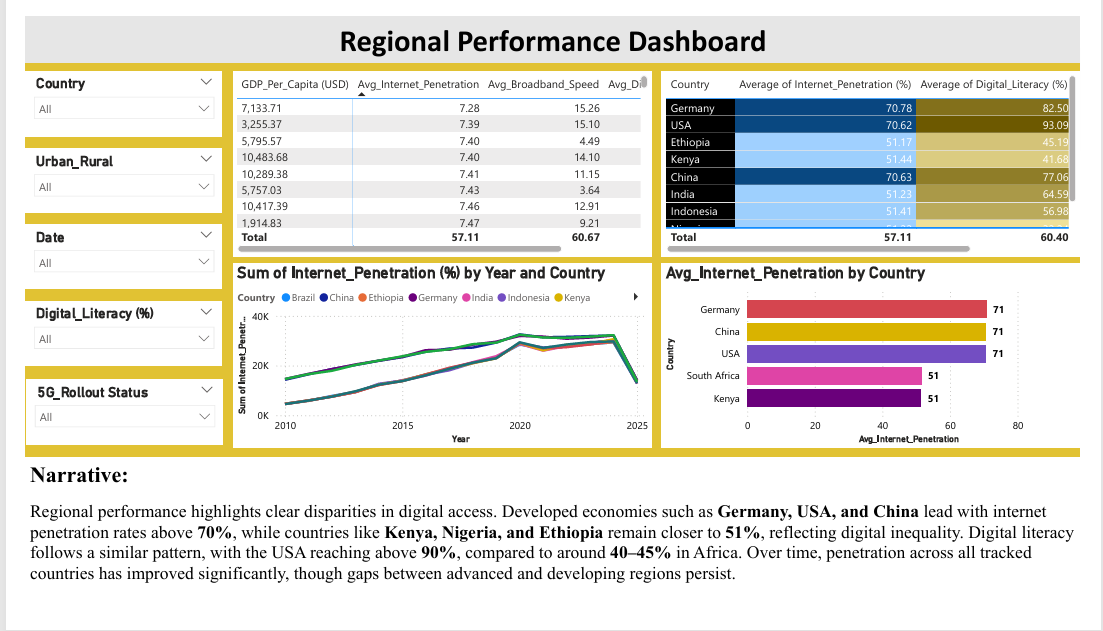

The dashboard page shown, as its layout file describes it:
{"tool":"powerbi","page":{"name":"Page 2","canvas":[1280,720],"ordinal":1},"visuals":[{"type":"slicer","fields":{"Values":["global_internet_adoption_daily_2010_2025_with_clusters.Country"]},"box":[0,66.3,239.3,79.8],"z":0},{"type":"slicer","fields":{"Values":["global_internet_adoption_daily_2010_2025_with_clusters.Digital_Literacy (%)"]},"box":[0,344.8,239.3,78.5],"z":1000},{"type":"slicer","fields":{"Values":["global_internet_adoption_daily_2010_2025_with_clusters.5G_Rollout Status"]},"box":[1.2,440.5,239.3,79],"z":2000},{"type":"slicer","fields":{"Values":["global_internet_adoption_daily_2010_2025_with_clusters.Urban_Rural"]},"box":[0,159.5,239.3,78.5],"z":3000},{"type":"slicer","fields":{"Values":["global_internet_adoption_daily_2010_2025_with_clusters.Date"]},"box":[0,251.5,239.3,78.5],"z":4000},{"type":"pivotTable","fields":{"Rows":["global_internet_adoption_daily_2010_2025_with_clusters.GDP_Per_Capita (USD)"],"Values":["All Measures.Avg_Internet_Penetration","All Measures.Avg_Broadband_Speed","All Measures.Avg_Digital_Literacy"]},"box":[251.5,66.3,508,224.5],"z":5000},{"type":"lineChart","fields":{"Category":["global_internet_adoption_daily_2010_2025_with_clusters.Date.Variation.Date Hierarchy.Year","global_internet_adoption_daily_2010_2025_with_clusters.Date.Variation.Date Hierarchy.Quarter","global_internet_adoption_daily_2010_2025_with_clusters.Date.Variation.Date Hierarchy.Month","global_internet_adoption_daily_2010_2025_with_clusters.Date.Variation.Date Hierarchy.Day"],"Y":["Sum(global_internet_adoption_daily_2010_2025_with_clusters.Internet_Penetration (%))"],"Series":["global_internet_adoption_daily_2010_2025_with_clusters.Country"]},"box":[251.5,299.4,508,224],"z":6000},{"type":"barChart","fields":{"Category":["global_internet_adoption_daily_2010_2025_with_clusters.Country"],"Y":["All Measures.Avg_Internet_Penetration"]},"box":[771.8,299.4,508,224],"z":7000},{"type":"tableEx","fields":{"Values":["global_internet_adoption_daily_2010_2025_with_clusters.Country","Avg(global_internet_adoption_daily_2010_2025_with_clusters.Internet_Penetration (%))","Avg(global_internet_adoption_daily_2010_2025_with_clusters.Digital_Literacy (%))","All Measures.Total_Digital_Investment"]},"box":[771.8,66.3,508,224.5],"z":8000},{"type":"textbox","box":[0,0,1280.3,56.5],"z":9000},{"type":"textbox","box":[0,535,1279.8,185.3],"z":9001}]}

Visuals, with their boxes in screenshot pixels (x1, y1, x2, y2), scaled from the page's 1280x720 canvas onto the 1103x631 screenshot:
slicer - global_internet_adoption_daily_2010_2025_with_clusters.Country: bbox=(0, 58, 206, 128)
slicer - global_internet_adoption_daily_2010_2025_with_clusters.Digital_Literacy (%): bbox=(0, 302, 206, 371)
slicer - global_internet_adoption_daily_2010_2025_with_clusters.5G_Rollout Status: bbox=(1, 386, 207, 455)
slicer - global_internet_adoption_daily_2010_2025_with_clusters.Urban_Rural: bbox=(0, 140, 206, 209)
slicer - global_internet_adoption_daily_2010_2025_with_clusters.Date: bbox=(0, 220, 206, 289)
pivotTable - global_internet_adoption_daily_2010_2025_with_clusters.GDP_Per_Capita (USD) x All Measures.Avg_Internet_Penetration: bbox=(217, 58, 654, 255)
lineChart - global_internet_adoption_daily_2010_2025_with_clusters.Date.Variation.Date Hierarchy.Year x global_internet_adoption_daily_2010_2025_with_clusters.Date.Variation.Date Hierarchy.Quarter: bbox=(217, 262, 654, 459)
barChart - global_internet_adoption_daily_2010_2025_with_clusters.Country x All Measures.Avg_Internet_Penetration: bbox=(665, 262, 1102, 459)
tableEx - global_internet_adoption_daily_2010_2025_with_clusters.Country x Avg(global_internet_adoption_daily_2010_2025_with_clusters.Internet_Penetration (%)): bbox=(665, 58, 1102, 255)
textbox: bbox=(0, 0, 1102, 50)
textbox: bbox=(0, 469, 1102, 630)
